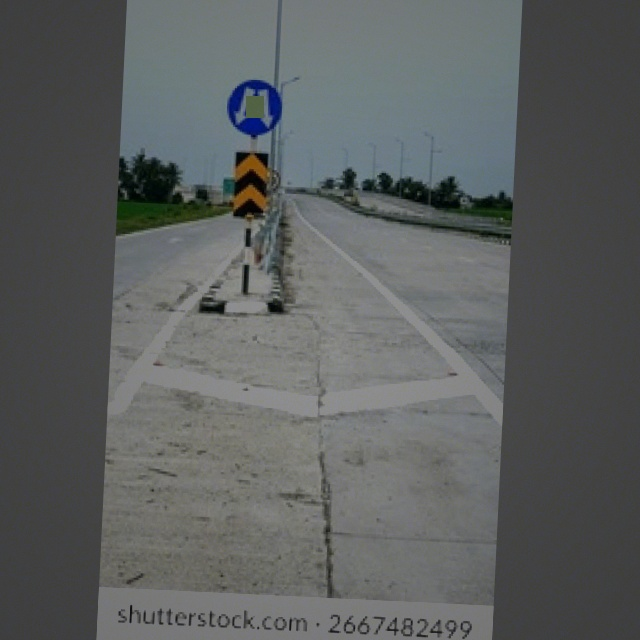Pass_Either_Side: (220, 72, 288, 144)
